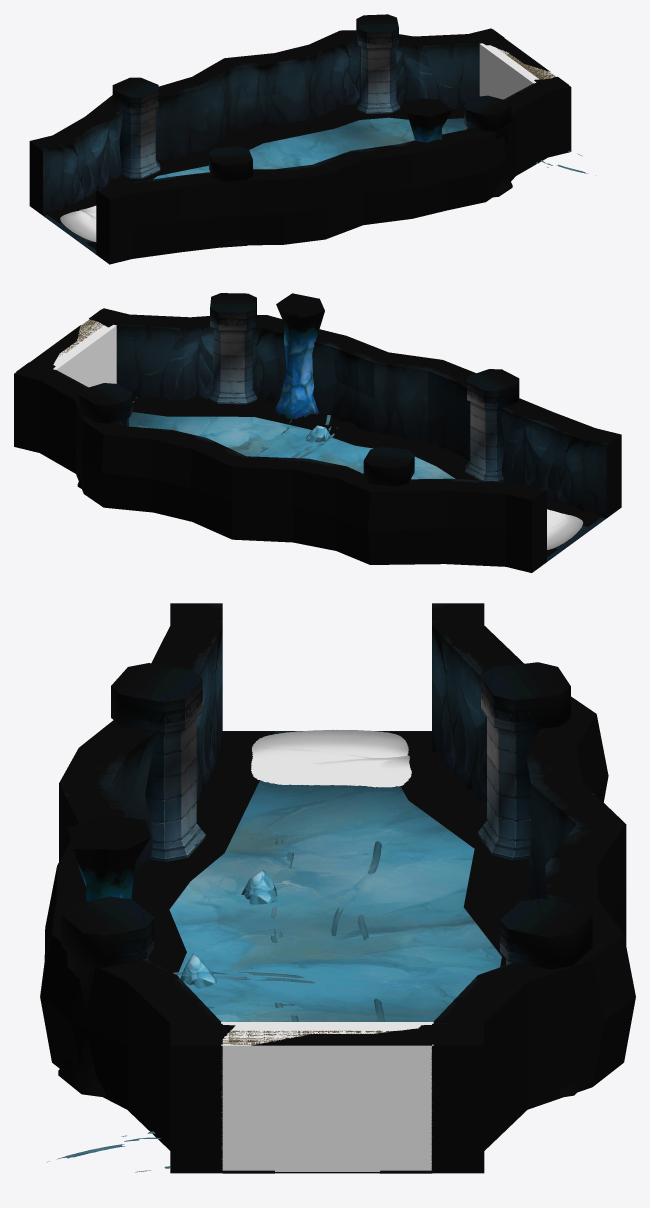
File: Dungeon_033_StartRoad_001.fbx
The picture shows the model from 3 angles, top to bottom: view 1: azimuth 30°, elevation 25°; view 2: azimuth 150°, elevation 25°; view 3: azimuth 270°, elevation 25°; orthographic projection. The views are drawn at different scales.
Visible parts, largest first — view 1: Dan1, Dan2, Dan1_shadow, Dungeon_033_Pillar_001 (1), Dungeon_033_Pillar_001, DoorWay_NavMask (1), Dungeon_033_Pillar_001 (2), Dungeon_033_Pillar_001 (3), Dungeon_011_Object_010, Dun_011_Door_002_old, Exit_Light; view 2: Dan1, Dan2, Dan1_shadow, Dungeon_033_Pillar_001 (2), Dungeon_033_Pillar_001 (3), Dungeon_011_Object_010, DoorWay_NavMask (1), Dungeon_033_Pillar_001 (1), Dungeon_033_Pillar_001, Dun_011_Door_002_old, Exit_Light; view 3: Dan1, Dan2, DoorWay_NavMask (1), Dan1_shadow, Dungeon_033_Pillar_001 (3), Dungeon_033_Pillar_001, Exit_Light, Dungeon_033_Pillar_001 (2), Dungeon_033_Pillar_001 (1), Dungeon_011_Object_010, Dun_011_Door_002_old, Dun_011_Door_002 (+3 smaller).
Part boxes in pixels (x1,y1,x2,y2): Dan1: (29, 28, 571, 264); Dan2: (43, 117, 466, 254); Dan1_shadow: (46, 104, 463, 249); Dungeon_033_Pillar_001 (1): (356, 14, 400, 113); Dungeon_033_Pillar_001: (112, 77, 160, 178); DoorWay_NavMask (1): (479, 43, 556, 99); Dungeon_033_Pillar_001 (2): (464, 95, 512, 197); Dungeon_033_Pillar_001 (3): (209, 146, 252, 247); Dungeon_011_Object_010: (403, 98, 452, 142); Dun_011_Door_002_old: (472, 29, 568, 89); Exit_Light: (60, 205, 96, 241); Dan1: (14, 308, 621, 572); Dan2: (129, 412, 606, 561); Dan1_shadow: (132, 396, 602, 556); Dungeon_033_Pillar_001 (2): (208, 293, 257, 404); Dungeon_033_Pillar_001 (3): (465, 369, 519, 481); Dungeon_011_Object_010: (274, 293, 324, 419); DoorWay_NavMask (1): (53, 319, 116, 387); Dungeon_033_Pillar_001 (1): (77, 383, 132, 488); Dungeon_033_Pillar_001: (363, 447, 414, 486); Dun_011_Door_002_old: (16, 309, 124, 377); Exit_Light: (547, 509, 583, 549); Dan1: (40, 603, 635, 1173); Dan2: (169, 731, 501, 1021); DoorWay_NavMask (1): (221, 1022, 433, 1171); Dan1_shadow: (131, 731, 529, 1173); Dungeon_033_Pillar_001 (3): (111, 663, 205, 861); Dungeon_033_Pillar_001: (478, 662, 570, 860); Exit_Light: (251, 729, 411, 787); Dungeon_033_Pillar_001 (2): (58, 896, 153, 1097); Dungeon_033_Pillar_001 (1): (500, 898, 592, 1097); Dungeon_011_Object_010: (67, 814, 150, 901); Dun_011_Door_002_old: (177, 1024, 477, 1170); Dun_011_Door_002: (183, 1022, 476, 1173).
Size of what is drawn, in the model's own units: 16.32 by 2.96 by 8.92.
